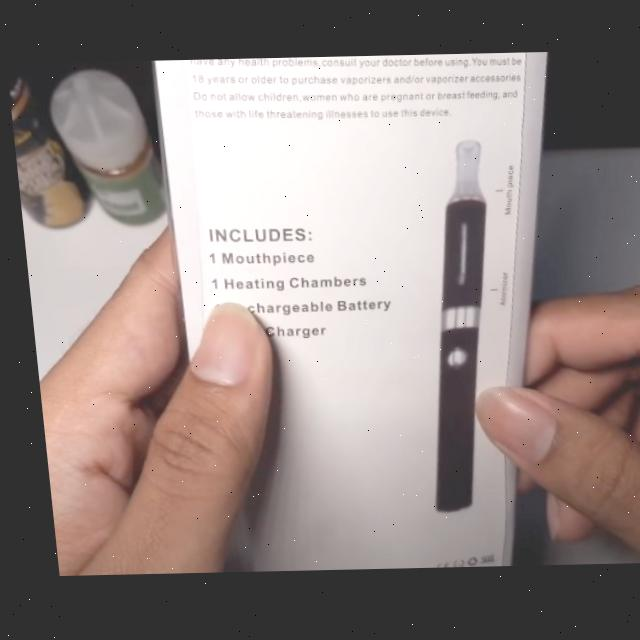vape: (393, 142, 508, 515)
